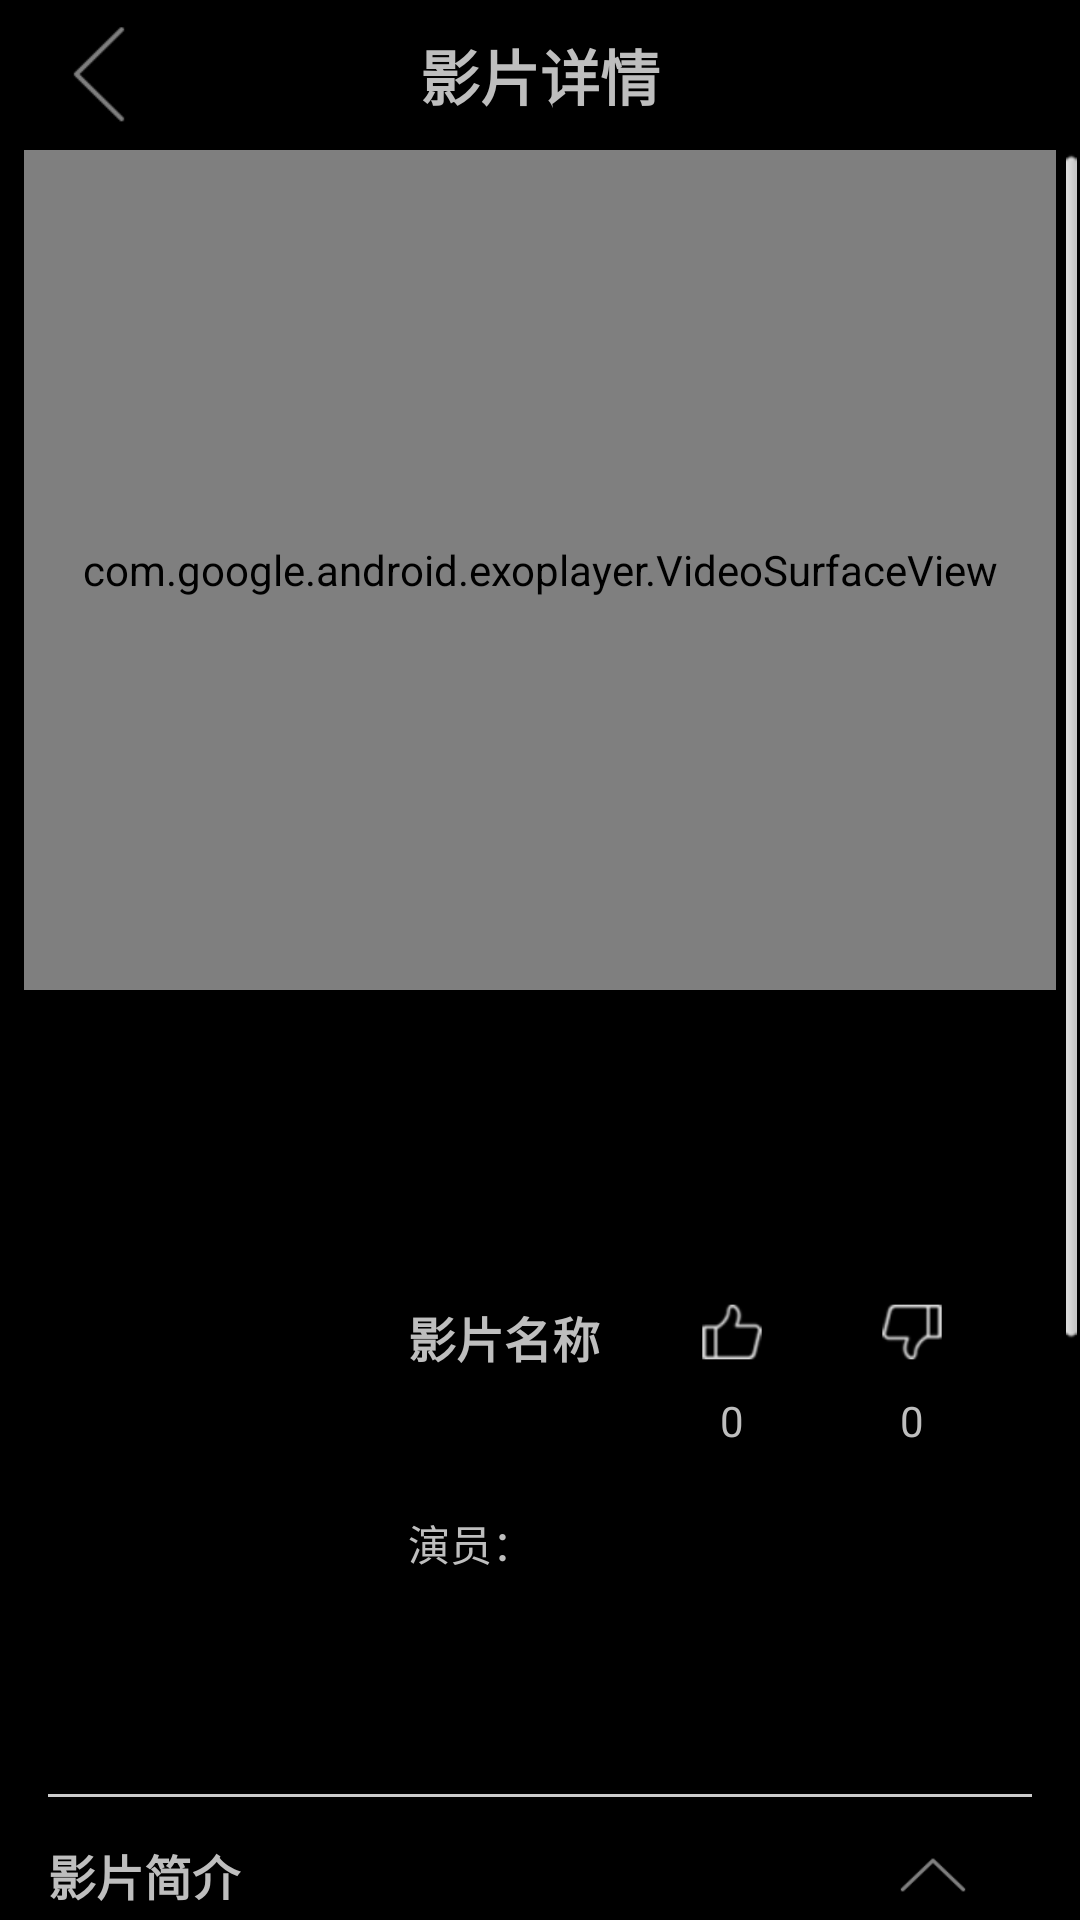

Named icons in this screenshot (1080 × 1920) and their centers, (x=x, y=y):
back: (x=99, y=74)
cai: (x=912, y=1332)
ding: (x=732, y=1332)
